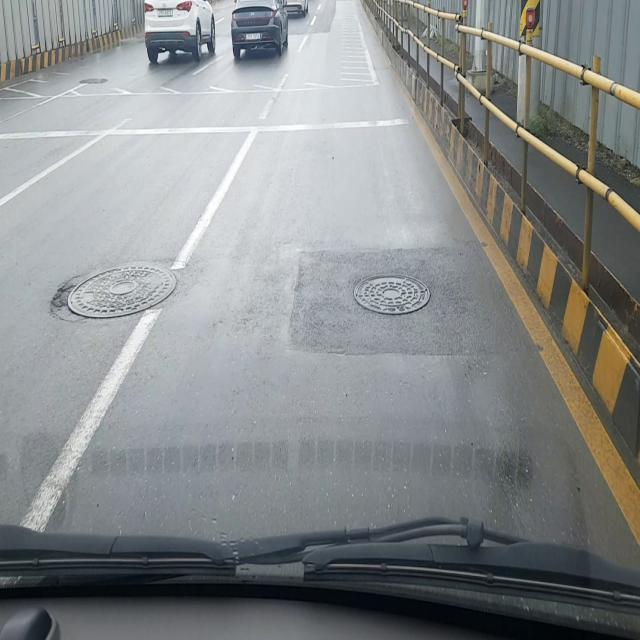Pothole: (51, 264, 178, 320)
